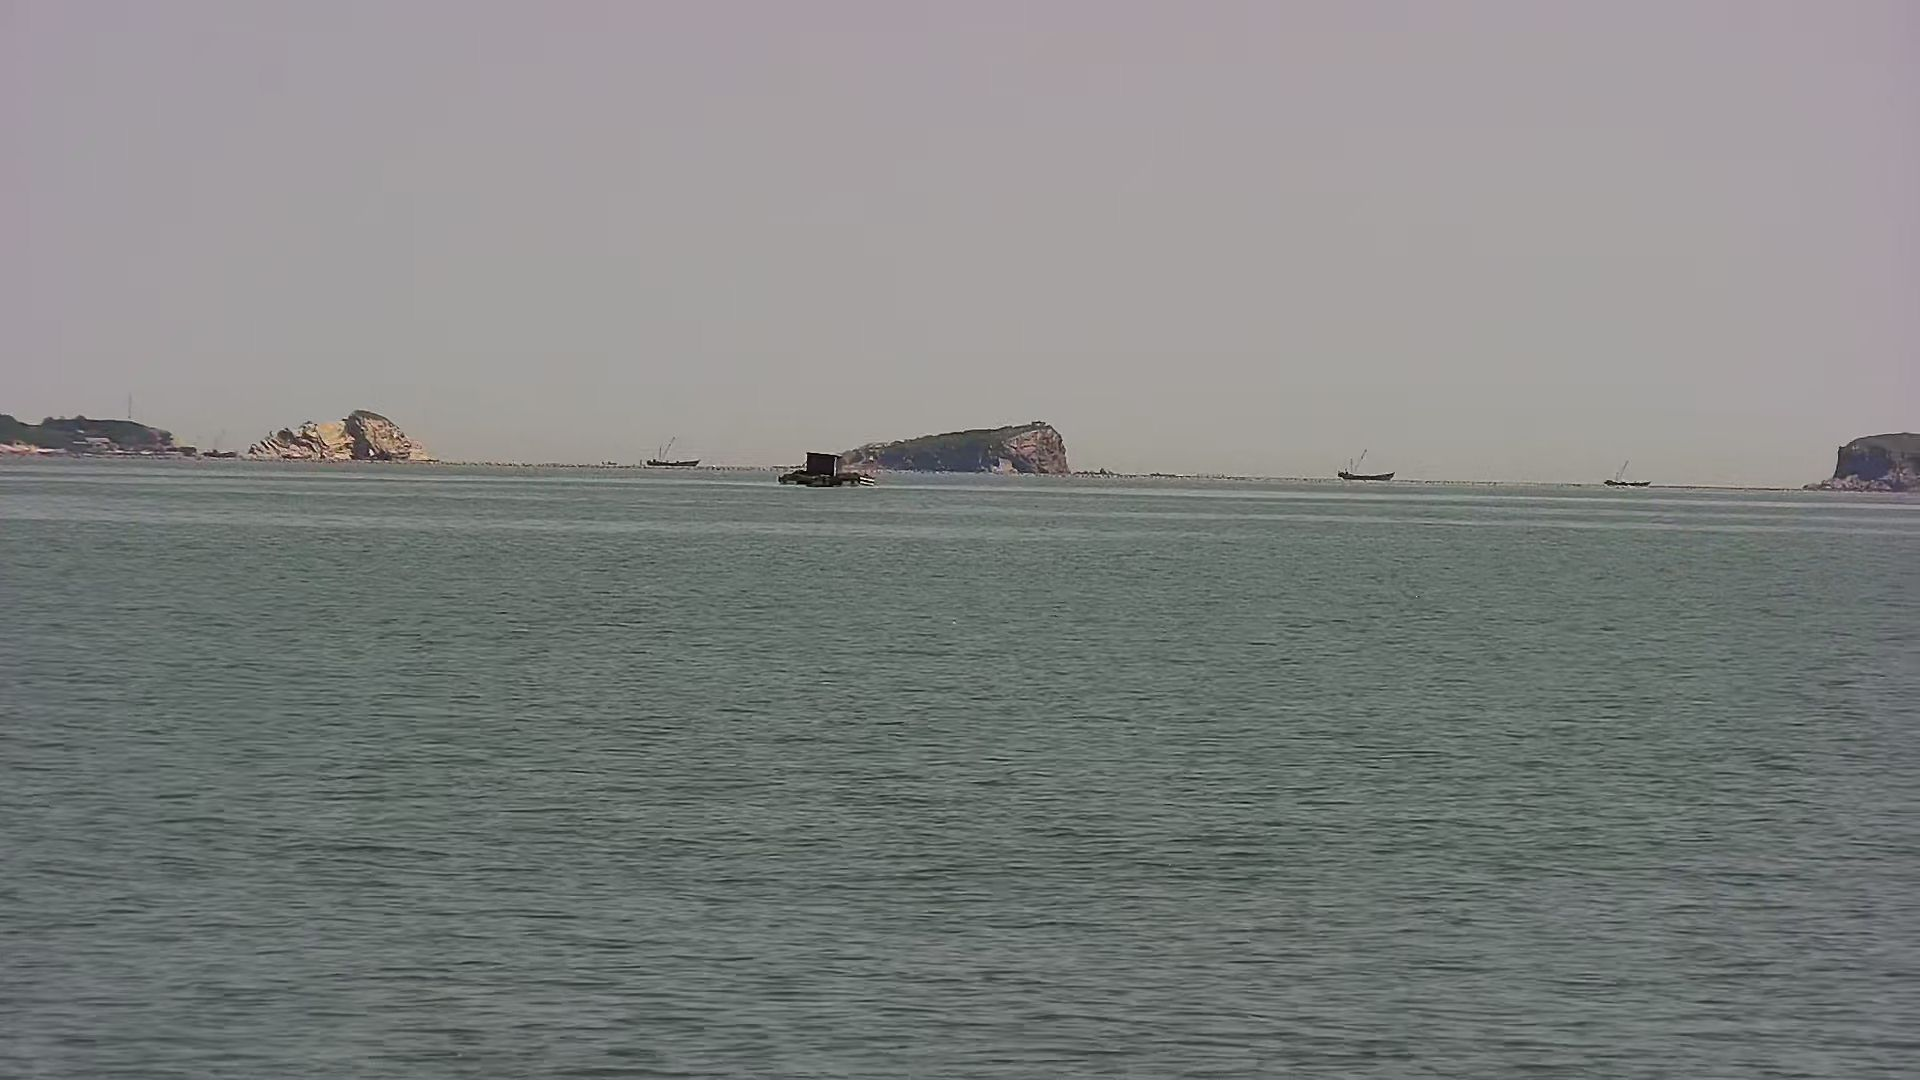platform: (775, 448, 874, 493)
rock: (789, 419, 1071, 479), (241, 409, 444, 465), (1804, 433, 1920, 495)
